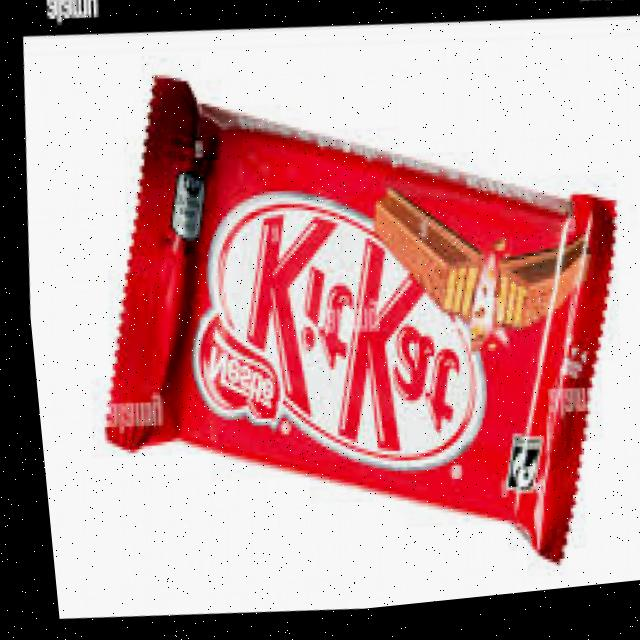kitkat: (53, 34, 640, 620)
